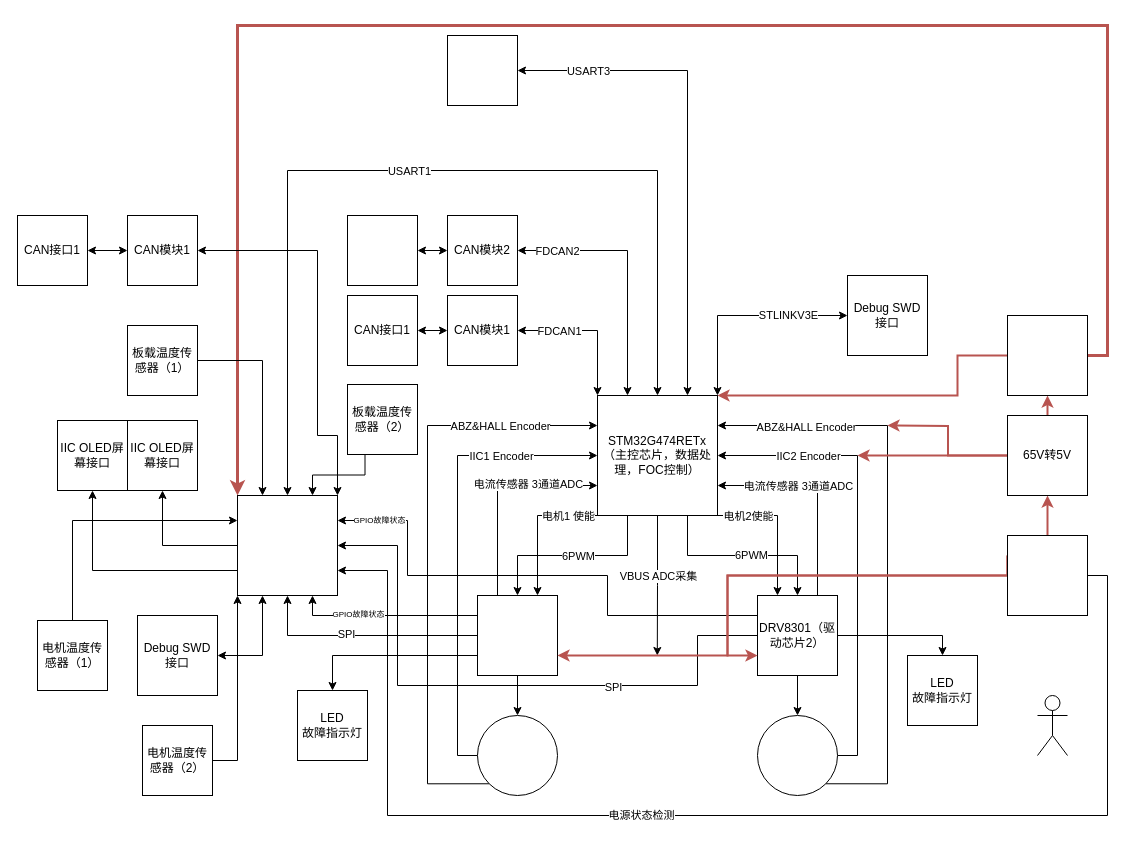
Some shapes in this 1134 by 841 pixel diagram are drawn without their labels. The centre of each missing label's shape, as x and y in pixels:
"5V转3.3V" belongs at [1047,355].
"6V-65V 电源输入" belongs at [1047,575].
"Actor" belongs at [1052,725].
"CAN接口2" belongs at [382,250].
"DRV8301（驱动芯片1）" belongs at [517,635].
"M1" belongs at [517,755].
"M2" belongs at [797,755].
"STM32F103C8T6（两路DRV8301参数设置，故障检测处理，安全防护）" belongs at [287,545].
"串口2" belongs at [482,70].
